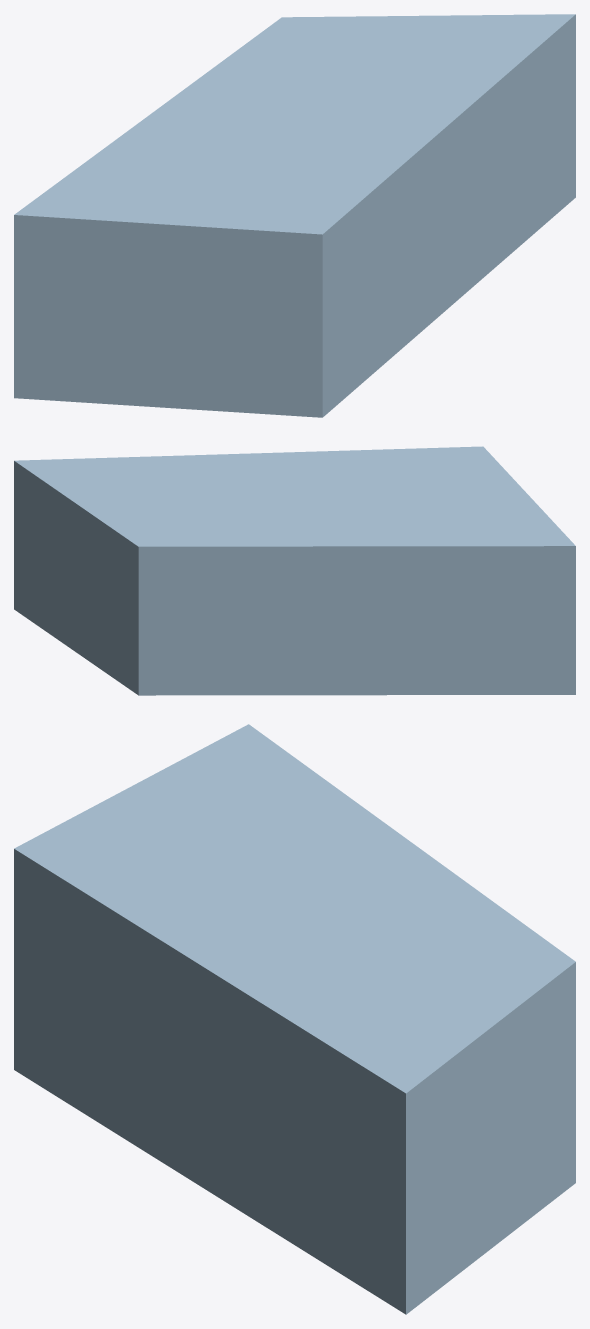
File: njupt_k_dormitory_06.glb
3 renders of one model, top to bottom at view 1: azimuth 30°, elevation 25°; view 2: azimuth 150°, elevation 25°; view 3: azimuth 270°, elevation 25°, orthographic. The views are drawn at different scales.
Parts seen in each view (by area): view 1: njupt_k_dormitory_06; view 2: njupt_k_dormitory_06; view 3: njupt_k_dormitory_06.
Part boxes in pixels (x1=…): njupt_k_dormitory_06: x1=14, y1=14, x2=575, y2=417; njupt_k_dormitory_06: x1=14, y1=446, x2=575, y2=695; njupt_k_dormitory_06: x1=14, y1=724, x2=575, y2=1314.
Size of the model in its own units: 64.82 by 18.1 by 41.67.
